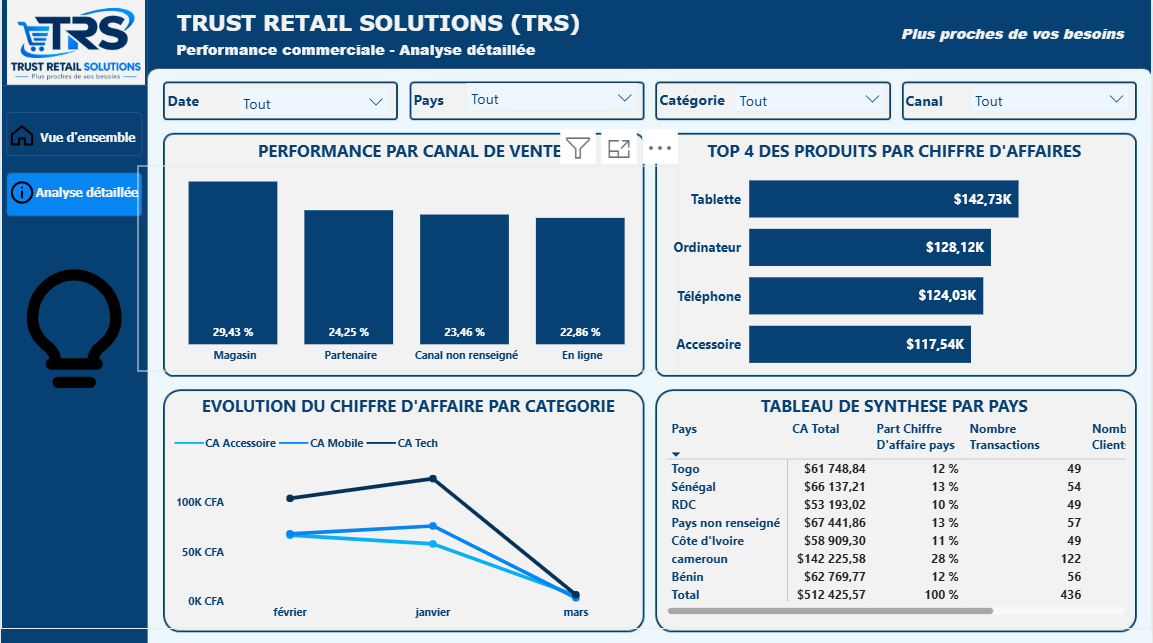

The dashboard page shown, as its layout file describes it:
{"tool":"powerbi","page":{"name":"Page 2","canvas":[1280,720],"ordinal":1},"visuals":[{"type":"group","id":"g1","title":"Groupe 2","box":[179.9,88.7,260.5,45.2],"z":0,"group":"g7"},{"type":"textbox","box":[38.3,137.5,116.4,28.9],"z":0,"group":"g5"},{"type":"textbox","box":[28.1,200.8,134.4,32.8],"z":0,"group":"g6"},{"type":"group","id":"g2","title":"Groupe 2","box":[454,84,263.2,48.2],"z":1000,"group":"g7"},{"type":"image","box":[8.8,135.9,30,30],"z":1000,"group":"g5"},{"type":"image","box":[8.6,201.6,29.7,29.7],"z":1000,"group":"g6"},{"type":"group","id":"g3","title":"Groupe 3","box":[726.4,85.1,265.1,45.2],"z":2000,"group":"g7"},{"type":"textbox","box":[454,95.4,54,36.8],"z":2000,"group":"g2"},{"type":"textbox","box":[179.9,96.7,54,36.8],"z":2000,"group":"g1"},{"type":"slicer","fields":{"Values":["ventes_TRS_2026.Pays"]},"box":[506.8,84,210.3,46],"z":3000,"group":"g2"},{"type":"group","id":"g4","title":"Groupe 4","box":[1000,85.1,263.2,48.3],"z":3000,"group":"g7"},{"type":"slicer","fields":{"Values":["ventes_TRS_2026.Date"]},"box":[253.3,88.7,187.1,45.2],"z":3000,"group":"g1"},{"type":"textbox","box":[1000,96.6,85.1,36.8],"z":3000,"group":"g4"},{"type":"textbox","box":[726.4,95.4,102.3,34.5],"z":4000,"group":"g3"},{"type":"textbox","box":[201.7,150,505,35],"z":4000,"group":"g7"},{"type":"slicer","fields":{"Values":["ventes_TRS_2026.Canal"]},"box":[1066.7,85.1,196.6,44.8],"z":5000,"group":"g4"},{"type":"columnChart","fields":{"Category":["ventes_TRS_2026.Canal"],"Y":["_Mesures.Part Chiffre D'affaire Canal"]},"box":[151.7,185,601.7,228.3],"z":5000,"group":"g7"},{"type":"textbox","box":[740,150,505,35],"z":6000,"group":"g7"},{"type":"barChart","fields":{"Category":["ventes_TRS_2026.Produit"],"Y":["_Mesures.CA Total"]},"box":[739.6,167,515.4,265.6],"z":7000,"group":"g7"},{"type":"slicer","fields":{"Values":["ventes_TRS_2026.Catégorie"]},"box":[804.4,85.1,187.1,45.2],"z":8000,"group":"g3"},{"type":"lineChart","fields":{"Category":["Calendrier.Mois"],"Y":["_Mesures.CA Accessoire","_Mesures.CA Mobile","_Mesures.CA Tech"]},"box":[187.7,474,518.5,225.9],"z":8000,"group":"g7"},{"type":"textbox","box":[200,433.3,505,35],"z":9000,"group":"g7"},{"type":"textbox","box":[189.3,6.4,477.2,41.4],"z":10000,"group":"g7"},{"type":"textbox","box":[190,40,421.7,43.3],"z":11000,"group":"g7"},{"type":"textbox","box":[740,433.3,505,35],"z":12000,"group":"g7"},{"type":"pivotTable","fields":{"Rows":["ventes_TRS_2026.Pays"],"Values":["_Mesures.CA Total","_Mesures.Part Chiffre D'affaire pays","_Mesures.Nombre Transactions","_Mesures.Nombre Clients","_Mesures.Panier Moyen"]},"box":[734.4,462.3,519.7,227.9],"z":13000,"group":"g7"},{"type":"image","box":[0,0,166.7,95],"z":14000,"group":"g7"},{"type":"textbox","box":[995,21.7,285,36.7],"z":15000,"group":"g7"},{"type":"group","id":"g5","title":"Groupe 5","box":[8.8,135.9,145.9,30.5],"z":16000,"group":"g7"},{"type":"group","id":"g6","title":"Groupe 6","box":[8.6,200.8,153.9,32.8],"z":17000,"group":"g7"},{"type":"shape","box":[3.3,124.6,154.1,52.5],"z":18000,"group":"g7"},{"type":"shape","box":[3.3,191.8,154.1,52.5],"z":19000,"group":"g7"},{"type":"image","box":[0,264.4,162.7,225.4],"z":20000},{"type":"group","id":"g7","title":"Groupe 1","box":[0,0,1280,699.9],"z":21002}]}

Visuals, with their boxes on the page's 1280x720 design canvas (x1, y1, x2, y2). These are canvas units, not pixel positions in the 1153x643 screenshot, which may show the page scaled, cropped or inside an application window:
"Groupe 2" group: (180, 89, 440, 134)
textbox: (38, 138, 155, 166)
textbox: (28, 201, 162, 234)
"Groupe 2" group: (454, 84, 717, 132)
image: (9, 136, 39, 166)
image: (9, 202, 38, 231)
"Groupe 3" group: (726, 85, 992, 130)
textbox: (454, 95, 508, 132)
textbox: (180, 97, 234, 134)
slicer - ventes_TRS_2026.Pays: (507, 84, 717, 130)
"Groupe 4" group: (1000, 85, 1263, 133)
slicer - ventes_TRS_2026.Date: (253, 89, 440, 134)
textbox: (1000, 97, 1085, 133)
textbox: (726, 95, 829, 130)
textbox: (202, 150, 707, 185)
slicer - ventes_TRS_2026.Canal: (1067, 85, 1263, 130)
columnChart - ventes_TRS_2026.Canal x _Mesures.Part Chiffre D'affaire Canal: (152, 185, 753, 413)
textbox: (740, 150, 1245, 185)
barChart - ventes_TRS_2026.Produit x _Mesures.CA Total: (740, 167, 1255, 433)
slicer - ventes_TRS_2026.Catégorie: (804, 85, 992, 130)
lineChart - Calendrier.Mois x _Mesures.CA Accessoire: (188, 474, 706, 700)
textbox: (200, 433, 705, 468)
textbox: (189, 6, 666, 48)
textbox: (190, 40, 612, 83)
textbox: (740, 433, 1245, 468)
pivotTable - ventes_TRS_2026.Pays x _Mesures.CA Total: (734, 462, 1254, 690)
image: (0, 0, 167, 95)
textbox: (995, 22, 1280, 58)
"Groupe 5" group: (9, 136, 155, 166)
"Groupe 6" group: (9, 201, 162, 234)
shape: (3, 125, 157, 177)
shape: (3, 192, 157, 244)
image: (0, 264, 163, 490)
"Groupe 1" group: (0, 0, 1280, 700)
